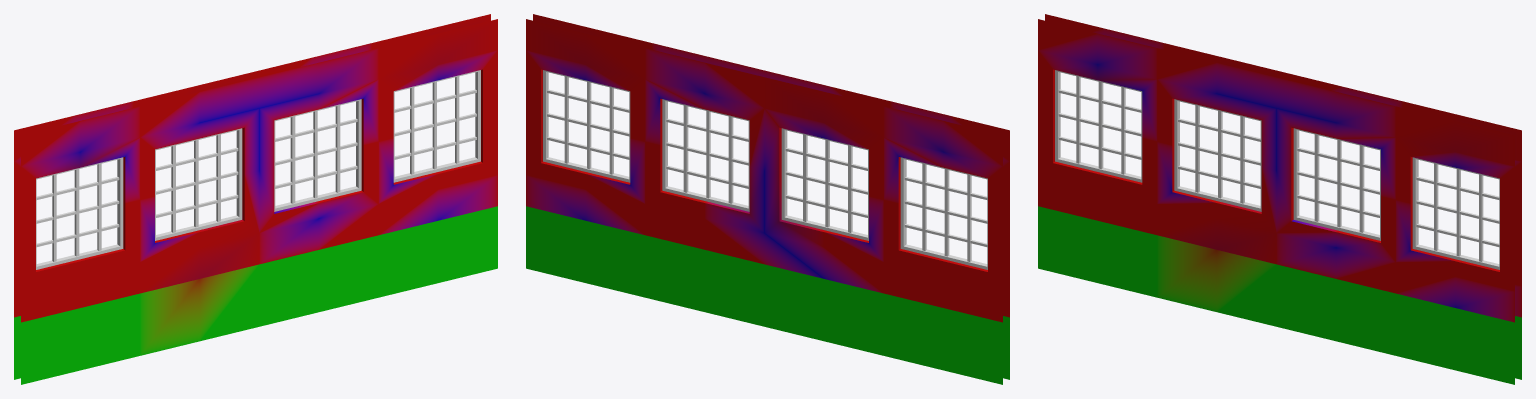
File: WindowA_B_16x8.fbx
3 views of the same model, side by side, from view 1: azimuth 30°, elevation 25°; view 2: azimuth 150°, elevation 25°; view 3: azimuth 330°, elevation 25° (orthographic).
Visible parts, largest first — view 1: Plane.005, Plane.004; view 2: Plane.005, Plane.004; view 3: Plane.005, Plane.004.
Boxes of the visible parts, <box> form: Plane.005: <box>14,14,497,384</box>; Plane.004: <box>36,70,480,269</box>; Plane.005: <box>526,14,1009,384</box>; Plane.004: <box>543,70,987,269</box>; Plane.005: <box>1038,14,1521,384</box>; Plane.004: <box>1055,70,1499,269</box>.
Size of the model in its own units: 1600 by 800 by 40.
